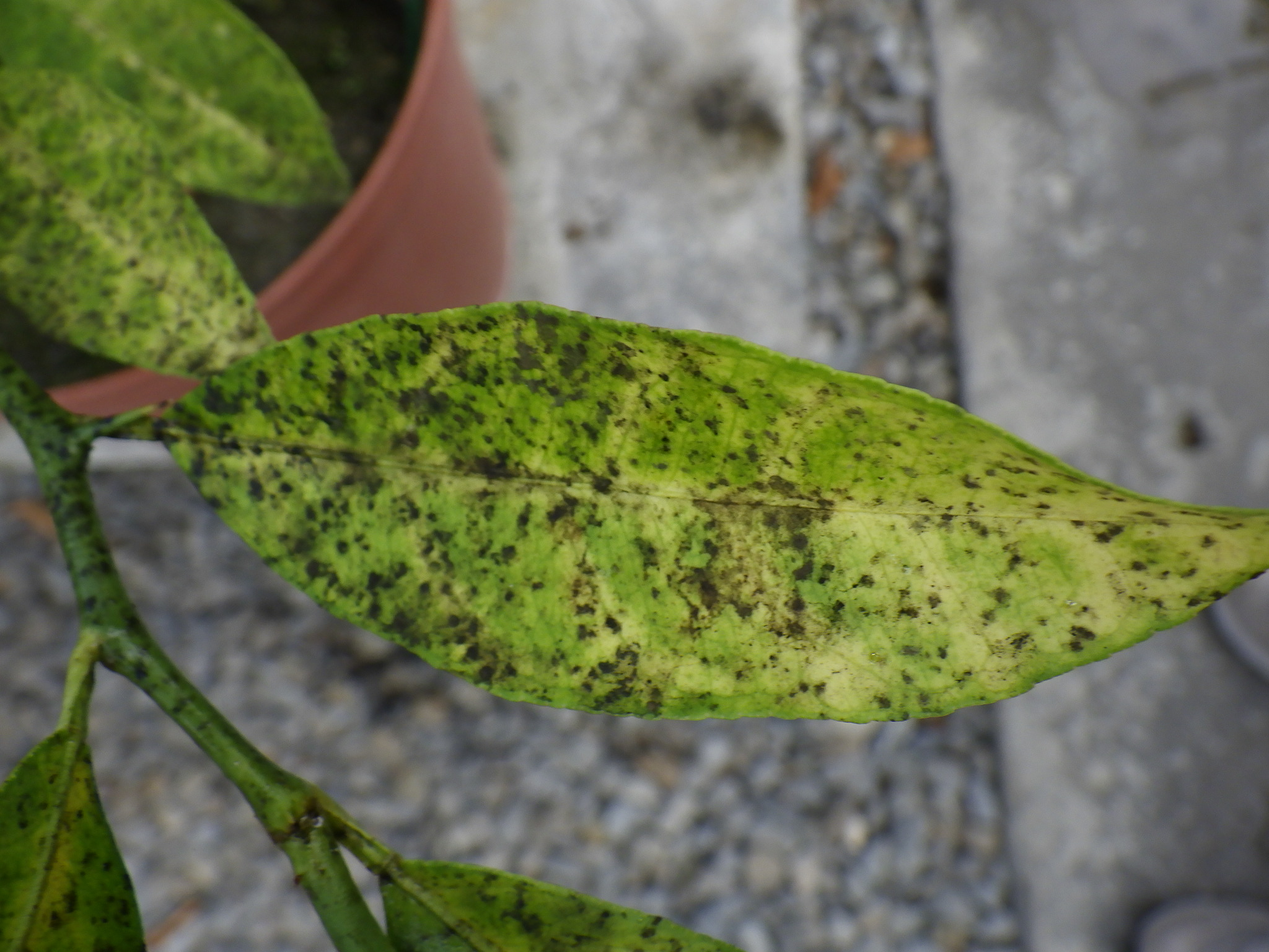Sooty_Mold: (159, 304, 1268, 720)
